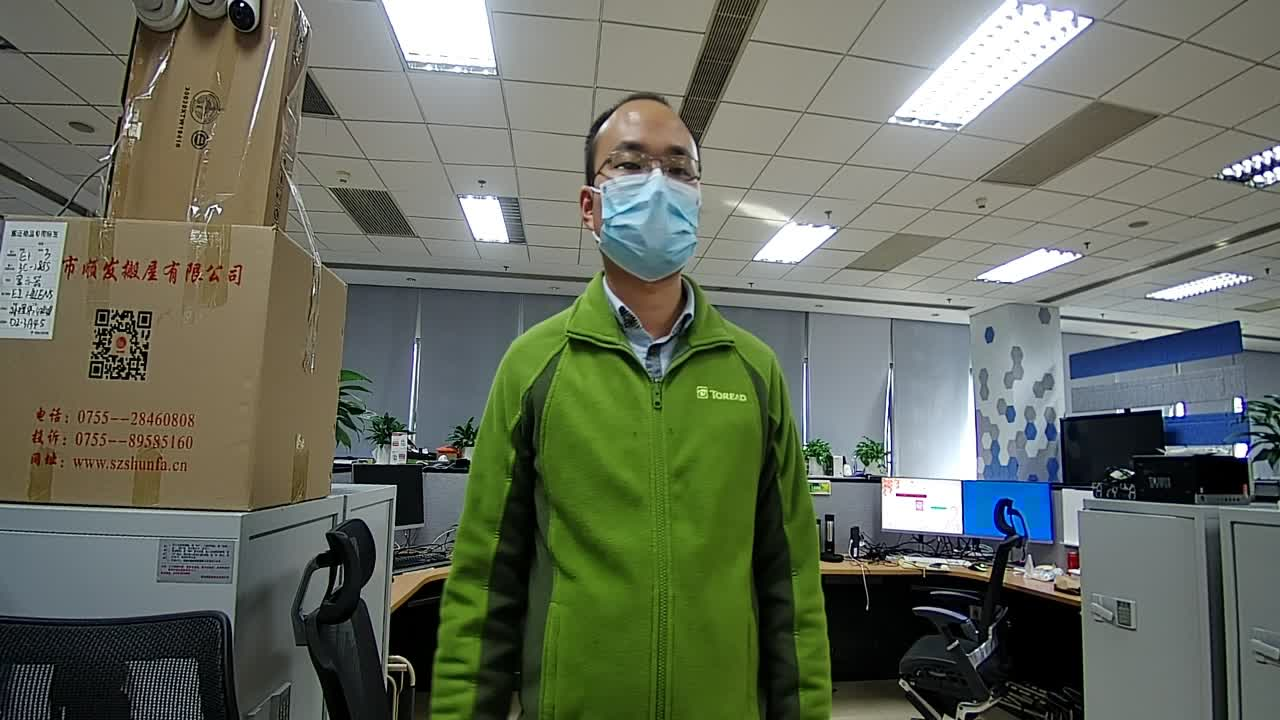face: (590, 117, 704, 279)
mask: (593, 170, 699, 278)
person: (482, 81, 788, 397)
